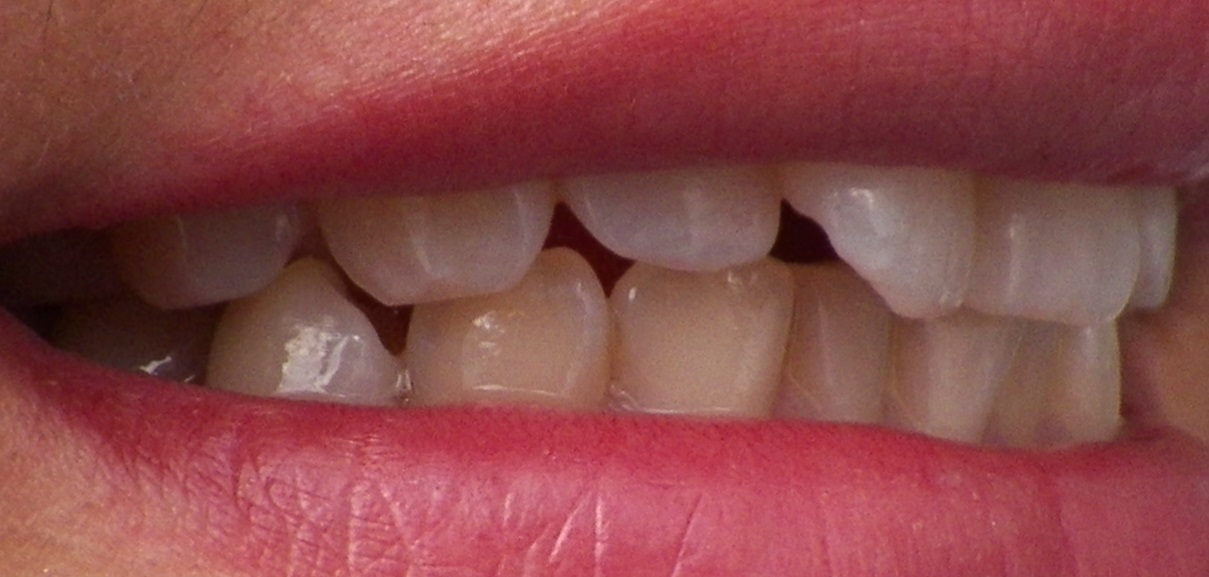boca: (48, 176, 1199, 419)
